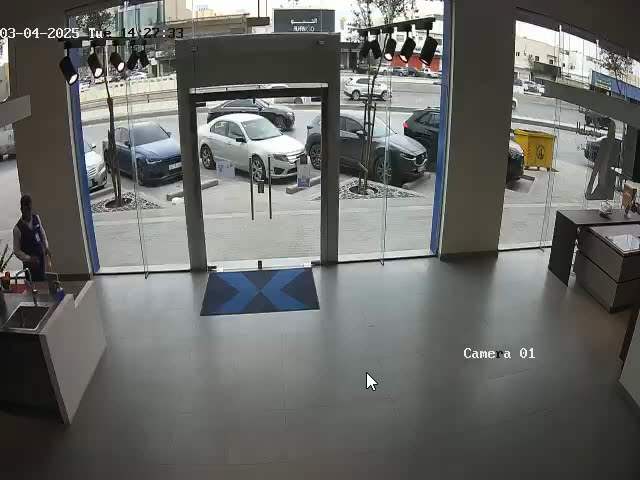employee: (13, 193, 51, 281)
